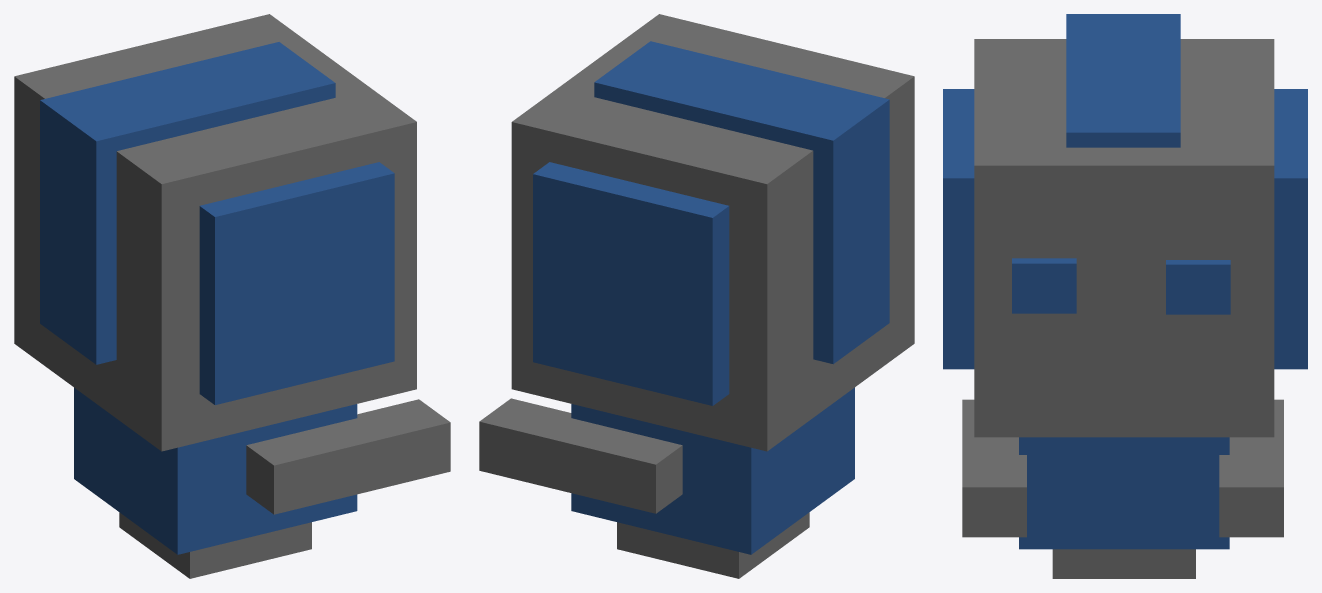
File: blue_team.fbx
3 renders of one model, left to right at view 1: azimuth 30°, elevation 25°; view 2: azimuth 150°, elevation 25°; view 3: azimuth 270°, elevation 25°, orthographic.
Parts seen in each view (by area): view 1: Cube.001, Cube.006, Cube.009, Cube.002, Cube.004, Cube.003; view 2: Cube.001, Cube.006, Cube.009, Cube.002, Cube.005, Cube.003; view 3: Cube.001, Cube.002, Cube.006, Cube.009, Cube.004, Cube.005, Cube.003, Cube.007, Cube.008.
Part boxes in pixels (bbox=[...]): Cube.001: bbox=[14, 14, 416, 451]; Cube.006: bbox=[199, 162, 394, 404]; Cube.009: bbox=[40, 42, 335, 364]; Cube.002: bbox=[74, 387, 357, 554]; Cube.004: bbox=[246, 399, 450, 514]; Cube.003: bbox=[119, 512, 311, 578]; Cube.001: bbox=[511, 14, 914, 451]; Cube.006: bbox=[533, 162, 729, 405]; Cube.009: bbox=[594, 41, 889, 364]; Cube.002: bbox=[571, 387, 854, 554]; Cube.005: bbox=[479, 398, 682, 513]; Cube.003: bbox=[617, 512, 809, 578]; Cube.001: bbox=[974, 39, 1274, 437]; Cube.002: bbox=[1019, 437, 1229, 549]; Cube.006: bbox=[943, 89, 1307, 369]; Cube.009: bbox=[1066, 14, 1180, 147]; Cube.004: bbox=[962, 399, 1026, 537]; Cube.005: bbox=[1219, 399, 1283, 537]; Cube.003: bbox=[1052, 549, 1195, 578]; Cube.007: bbox=[1012, 258, 1076, 313]; Cube.008: bbox=[1166, 260, 1230, 314].
Size of the model in its own units: 209 by 298 by 214.
